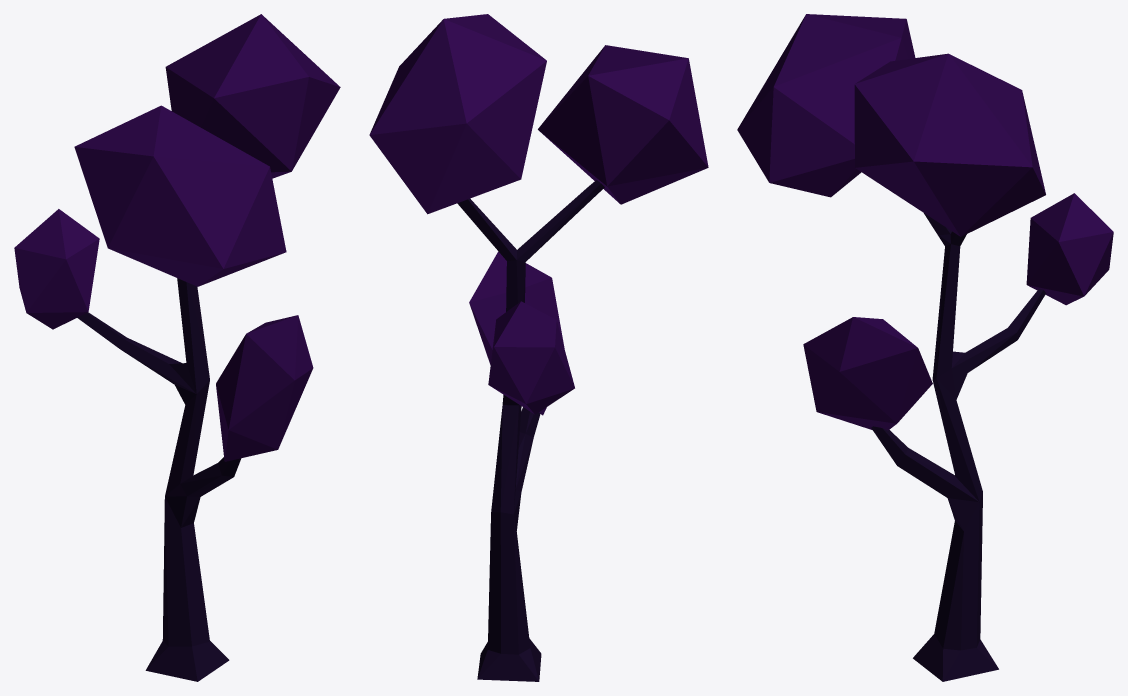
3 views of the same model, side by side, from view 1: azimuth 30°, elevation 25°; view 2: azimuth 150°, elevation 25°; view 3: azimuth 270°, elevation 25° (orthographic). The views are drawn at different scales.
Visible parts, largest first — view 1: Cube.002, Cube.003, Plane, Cube.001, Cube; view 2: Cube.003, Cube.002, Plane, Cube, Cube.001; view 3: Cube.003, Cube.002, Plane, Cube.001, Cube.
Boxes of the visible parts, x1,y1,x2,y2 form: Cube.002: (74, 105, 286, 286); Cube.003: (165, 14, 340, 178); Plane: (77, 278, 241, 681); Cube.001: (216, 315, 313, 461); Cube: (14, 209, 99, 329); Cube.003: (369, 14, 546, 214); Cube.002: (538, 45, 708, 204); Plane: (457, 180, 604, 681); Cube: (488, 301, 574, 414); Cube.001: (469, 251, 564, 415); Cube.003: (854, 53, 1045, 236); Cube.002: (737, 14, 915, 197); Plane: (871, 213, 1046, 681); Cube.001: (803, 317, 932, 430); Cube: (1026, 193, 1113, 305).
Size of the model in its own units: 2.25 by 5.02 by 2.65.
